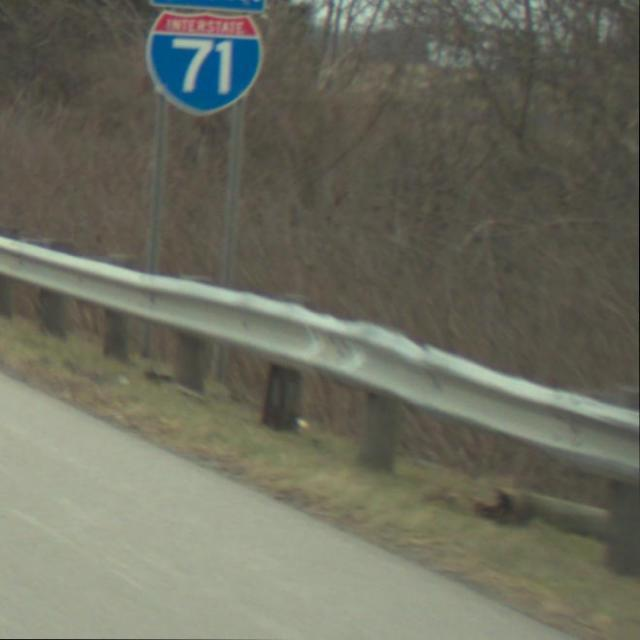Guard rail: (0, 223, 640, 587)
